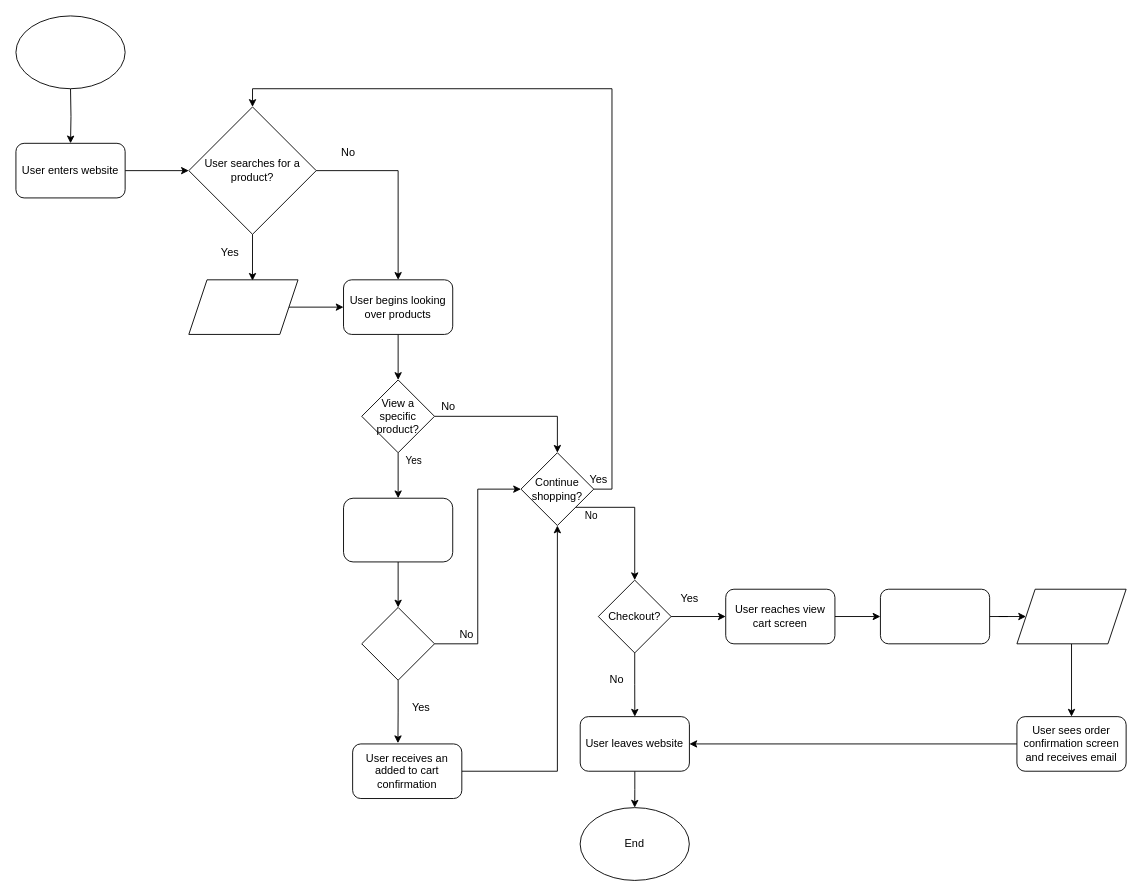
Image size: 1142x896. Some labels were removed from this diagram. Each missing label, with the box of its shape:
Add to cart?: (361, 607, 435, 680)
Product's webpage opens: (343, 497, 453, 562)
Start: (15, 15, 125, 89)
User reaches view payment screen: (880, 588, 990, 644)
user's payment information: (1016, 588, 1126, 644)
user's search input: (188, 279, 298, 334)
